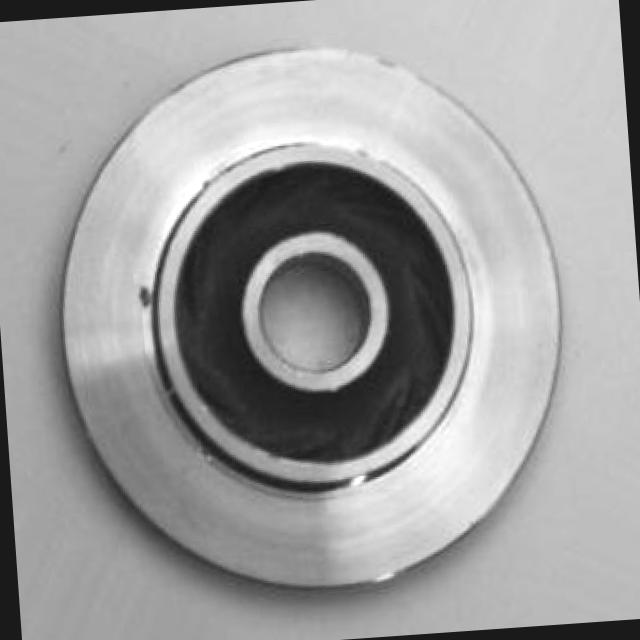Defect: (126, 276, 164, 314)
